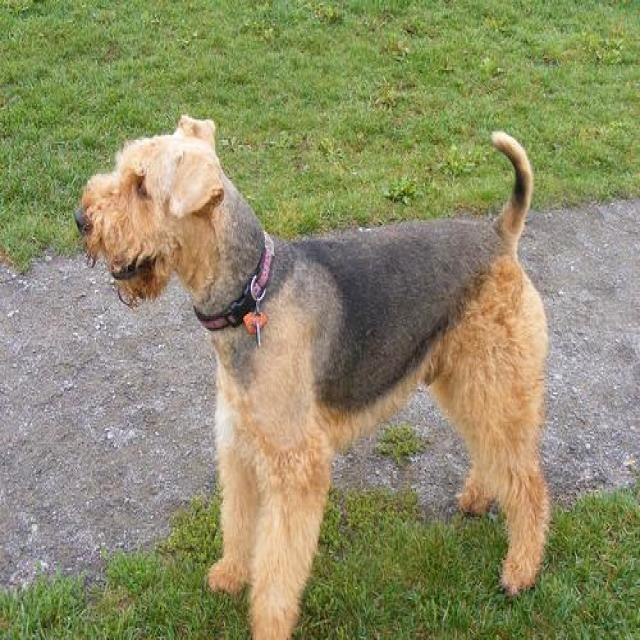airedale: (70, 111, 552, 637)
